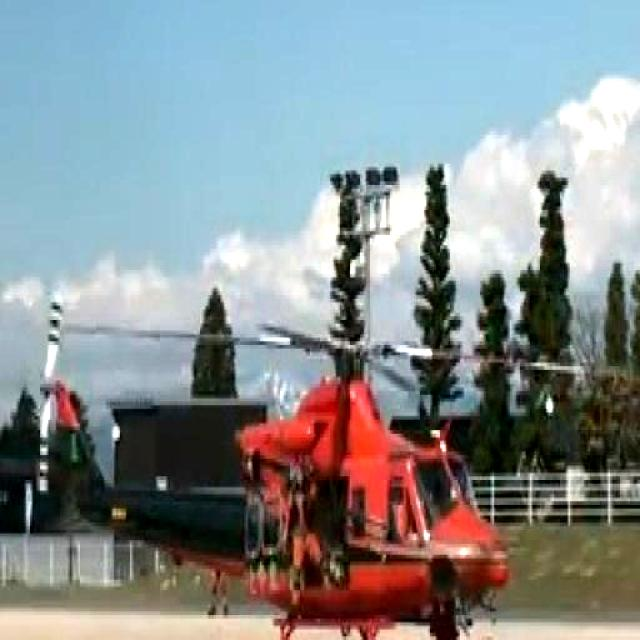drone: (0, 311, 524, 640)
